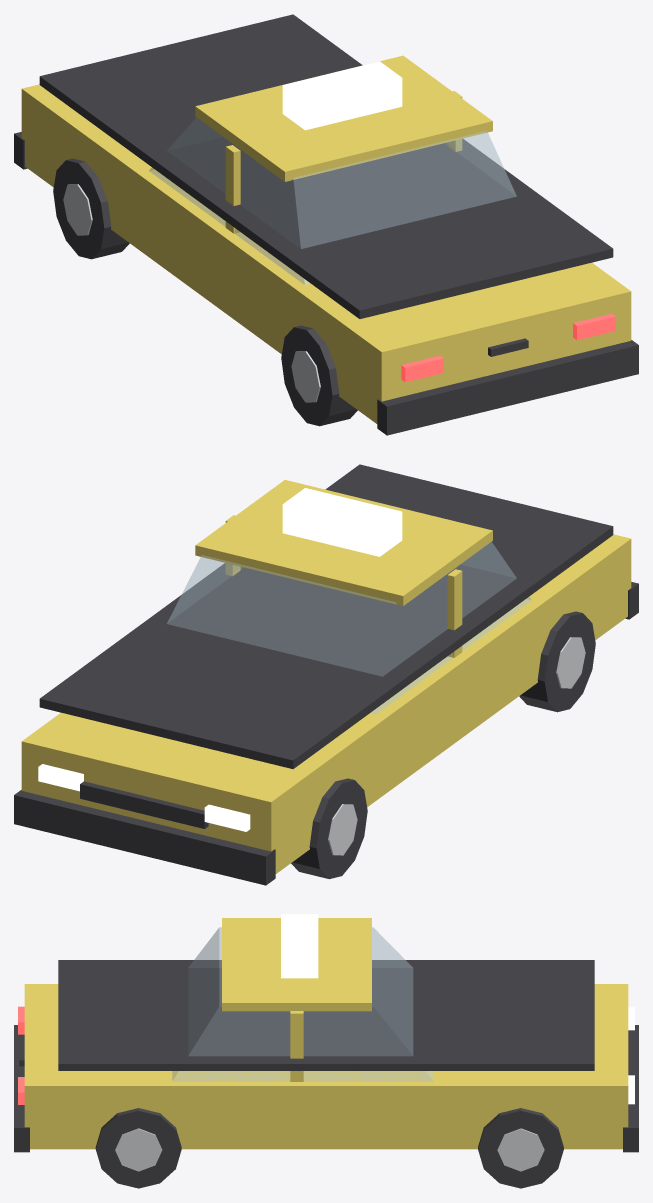
The model's file is taxi.glb.
3 renders of one model, top to bottom at view 1: azimuth 30°, elevation 25°; view 2: azimuth 150°, elevation 25°; view 3: azimuth 270°, elevation 25°, orthographic. The views are drawn at different scales.
Parts seen in each view (by area): view 1: body, wheel_rl, wheel_fl; view 2: body, wheel_fl, wheel_rl; view 3: body, wheel_rr, wheel_fr.
Part boxes in pixels (x1=…): body: x1=14, y1=14, x2=638, y2=435; wheel_rl: x1=281, y1=325, x2=357, y2=426; wheel_fl: x1=53, y1=158, x2=129, y2=259; body: x1=14, y1=464, x2=638, y2=885; wheel_fl: x1=291, y1=778, x2=367, y2=879; wheel_rl: x1=519, y1=611, x2=595, y2=712; body: x1=14, y1=914, x2=638, y2=1152; wheel_rr: x1=95, y1=1108, x2=181, y2=1188; wheel_fr: x1=478, y1=1108, x2=563, y2=1188.
Bounding box in the file's own units: 1.92 × 1.72 × 4.66.
